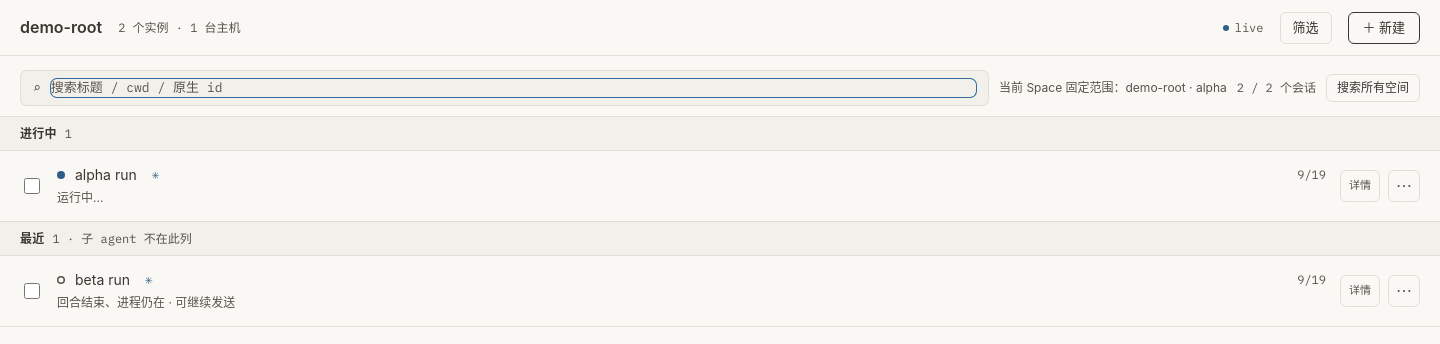
Test: SessionList hold scope › does not freeze when focus is in the search box, so typing still filters
The width and height of the screenshot is (1440, 344).
Type "alpha" into the field with test id "session-search" at (513, 88), box [51,78,976,98]
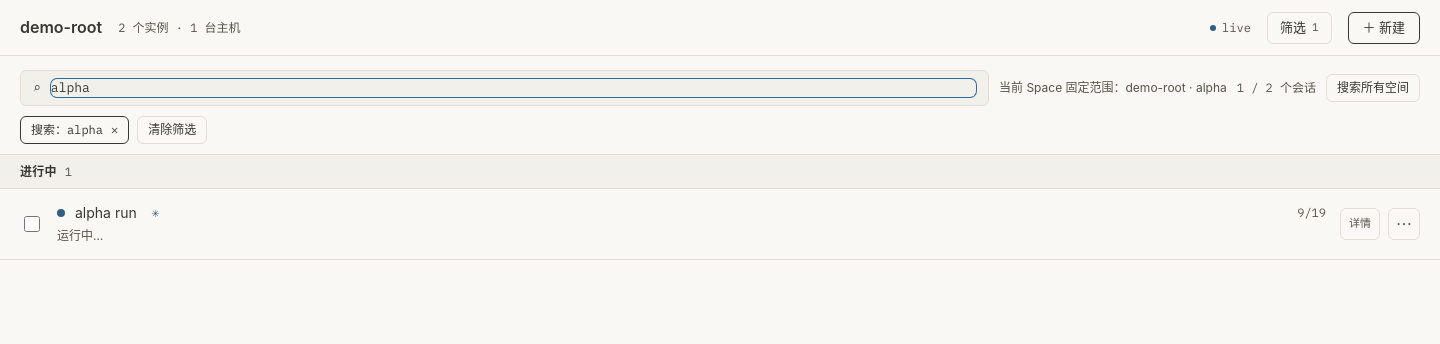
Expected: the text "alpha run" is shown, [75,203,137,224]
Expected: the link "beta run" is gone
